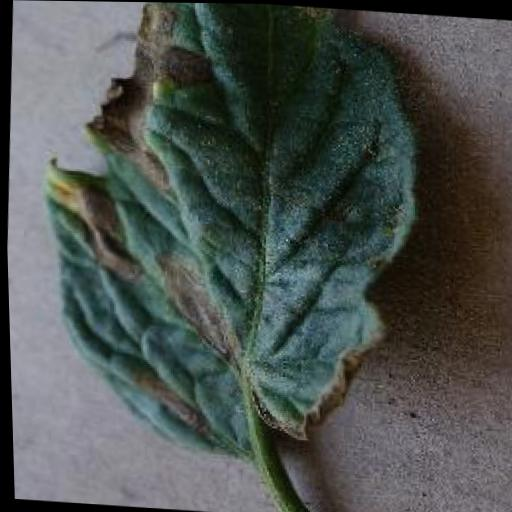Early Blight: (26, 0, 432, 465)
